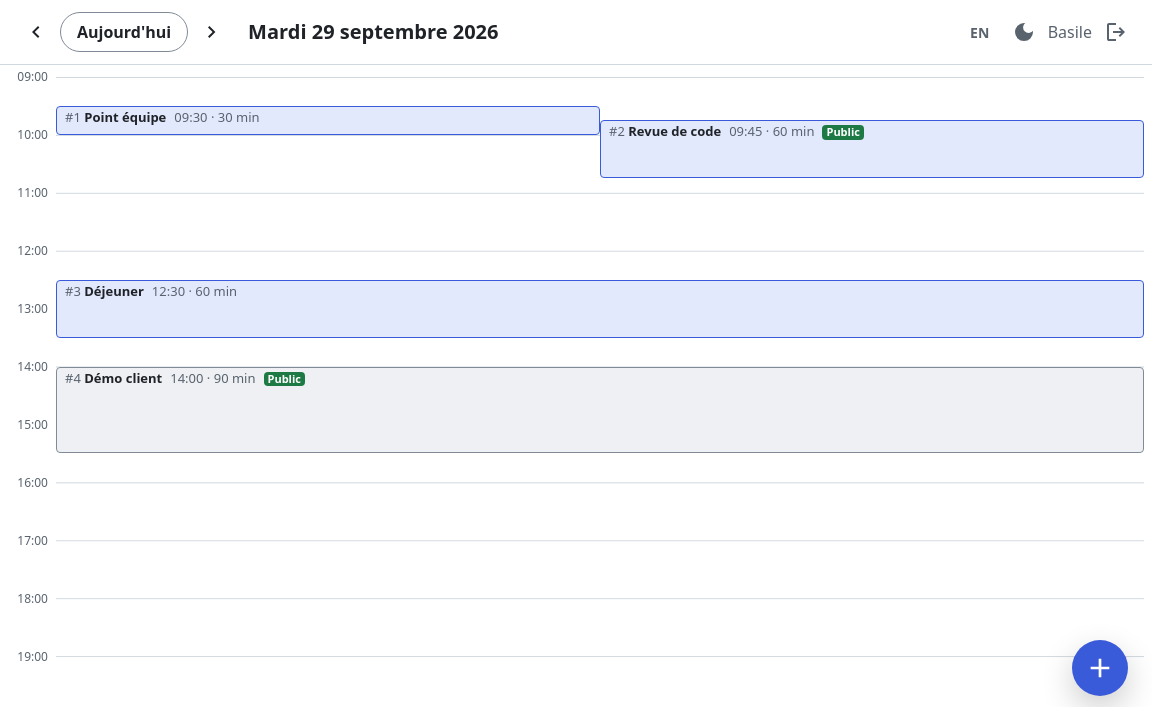
Test: create › shows the event at once, then confirms it with its server id
Expected: the heading "mardi 29 septembre 2026" is shown, top-left (248, 20), bottom-right (498, 44)
Click the button named "Nouvel événement" at (1100, 668), box top-left (1072, 640), bottom-right (1128, 696)
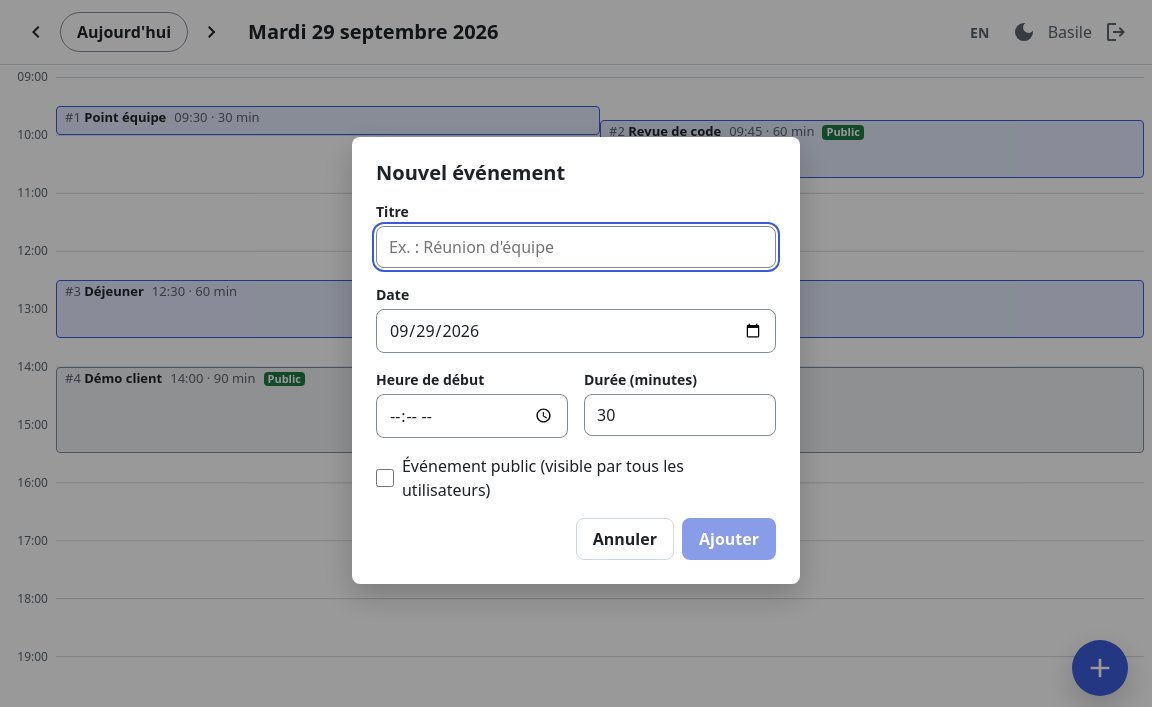
Type "Atelier" into the field labelled "Titre" at (576, 246), box top-left (376, 226), bottom-right (776, 268)
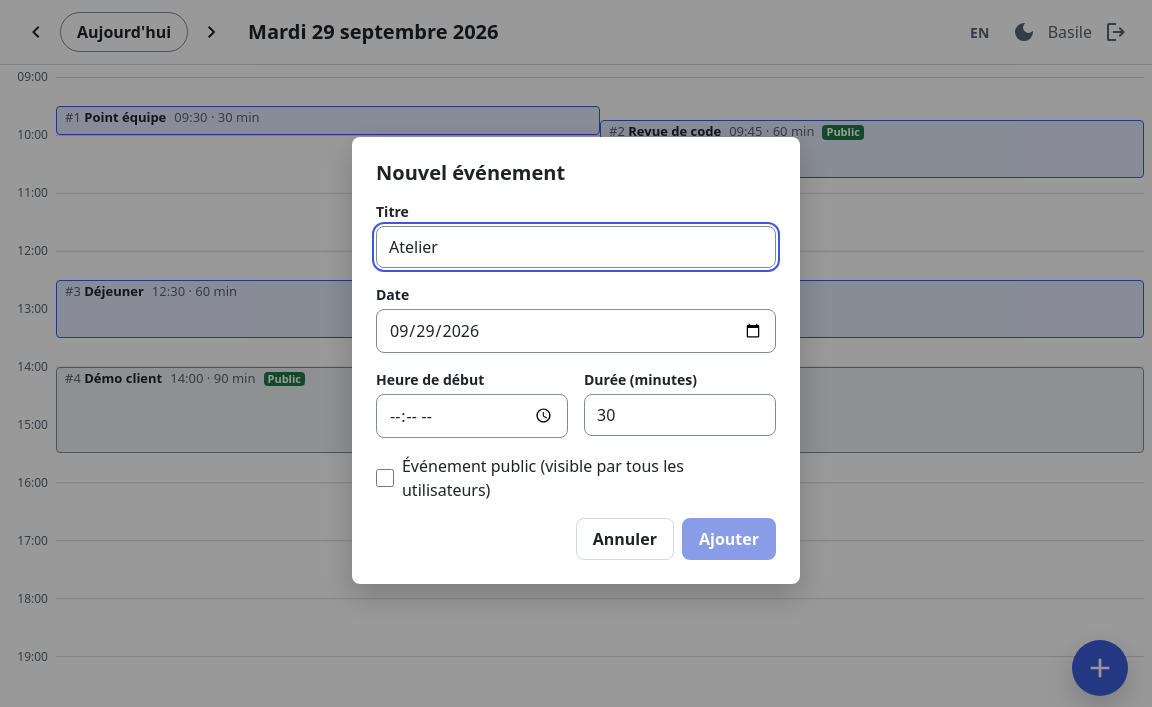
Type "15:00" into the time field labelled "Heure de début" at (472, 416), box top-left (376, 394), bottom-right (568, 438)
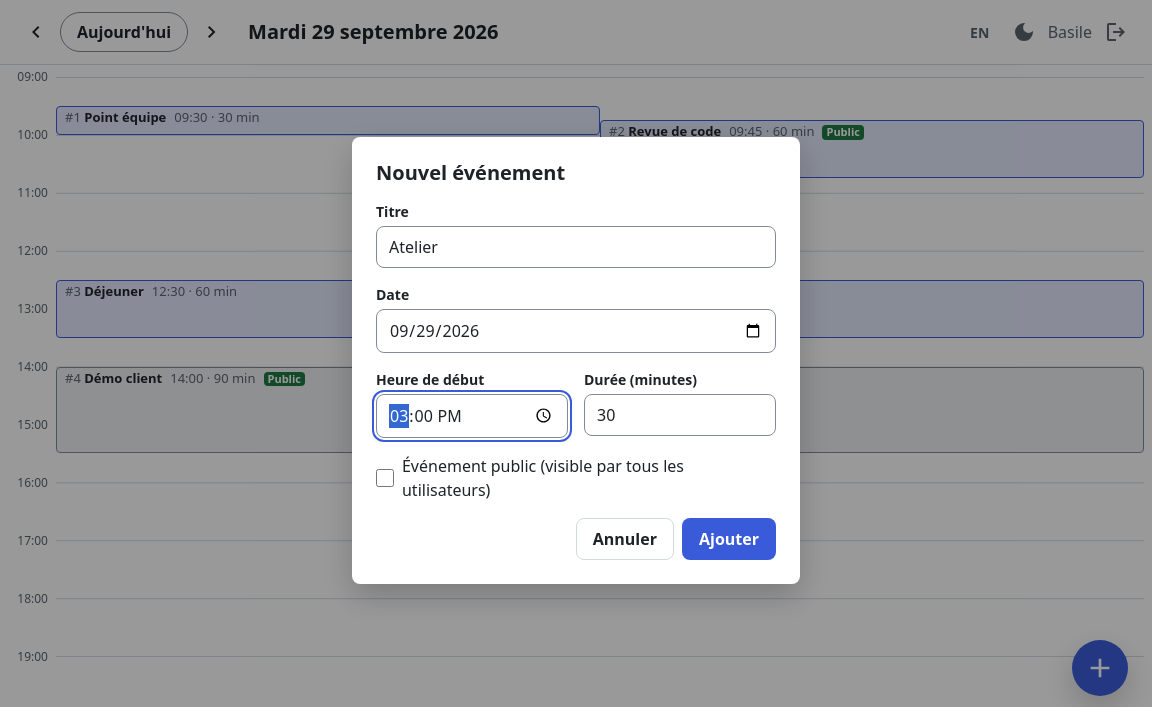
Replace the text in the number field labelled "Durée (minutes)" with "45" at (680, 414), box top-left (584, 394), bottom-right (776, 436)
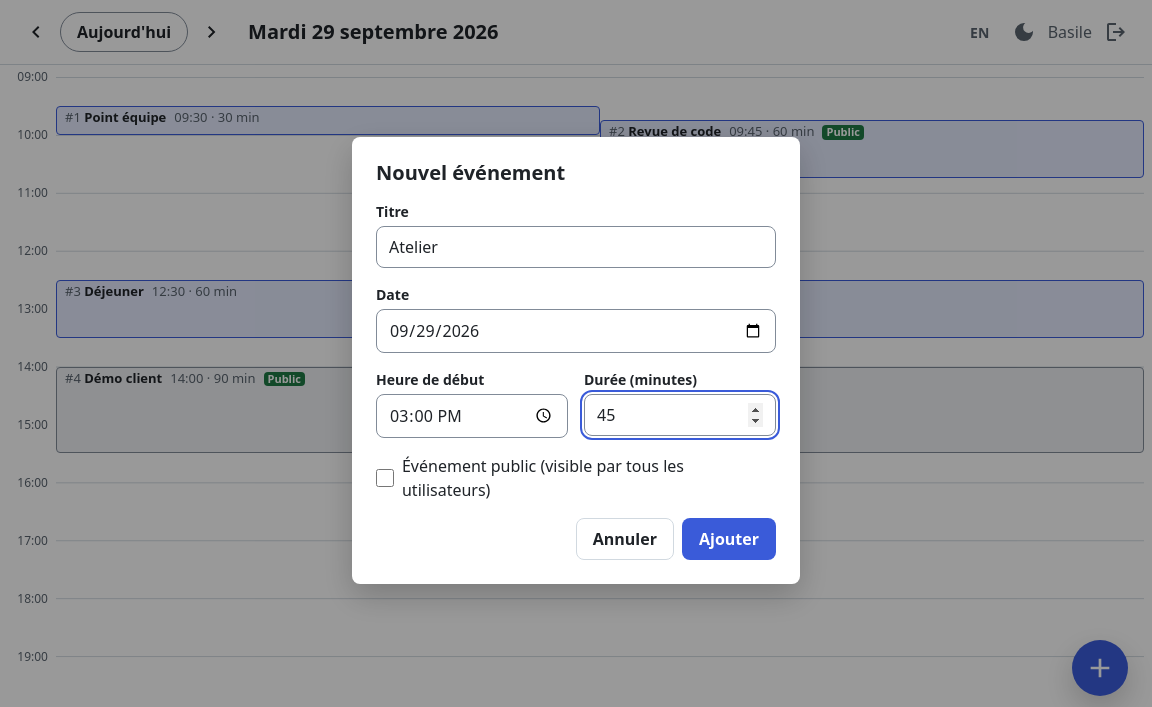
Click the checkbox labelled "Événement public (visible par tous les utilisateurs)" at (385, 478), box top-left (376, 468), bottom-right (394, 486)
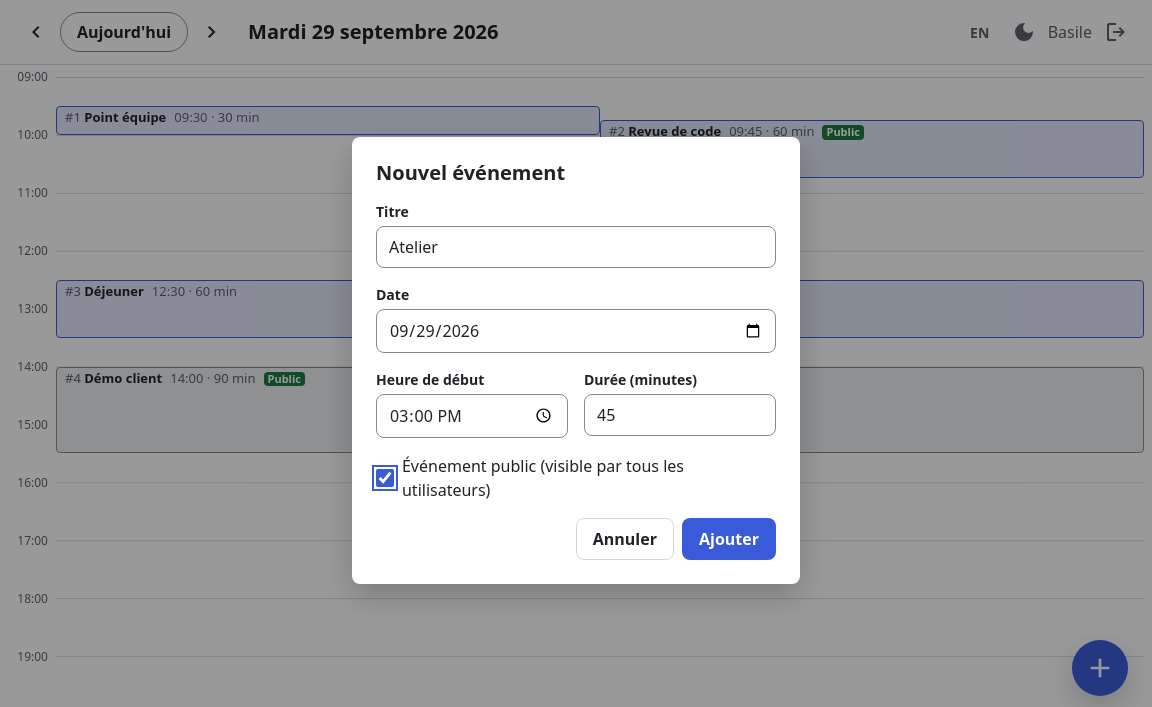
Click the button "Ajouter" at (729, 538), box top-left (682, 518), bottom-right (776, 560)
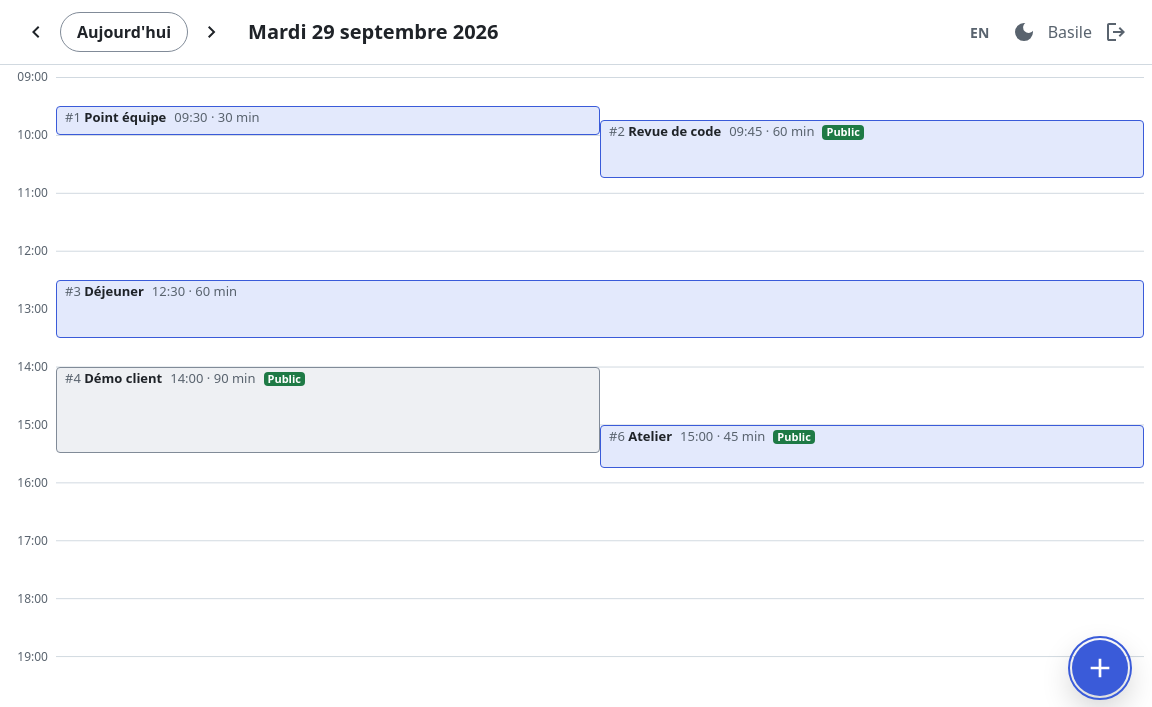
Now the 3rd text "Public" is shown, box top-left (773, 430), bottom-right (815, 444)
Now the dialog is gone
